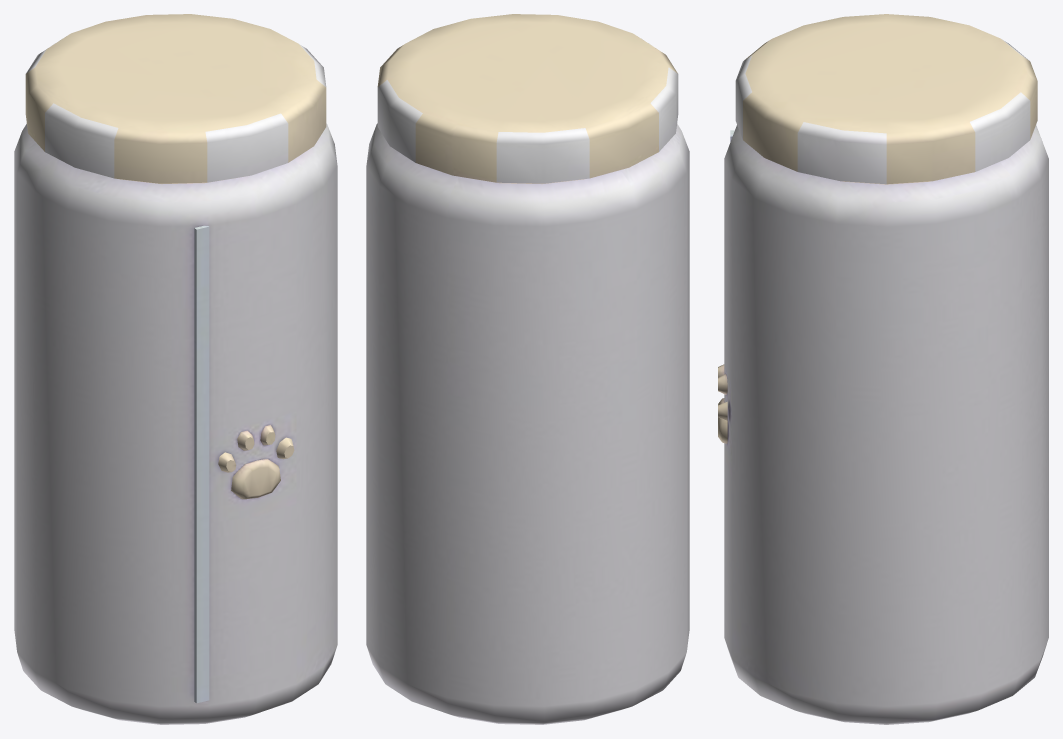
File: kavanoz2.glb
3 renders of one model, left to right at view 1: azimuth 30°, elevation 25°; view 2: azimuth 150°, elevation 25°; view 3: azimuth 270°, elevation 25°, orthographic.
Parts seen in each view (by area): view 1: kavanoz2; view 2: kavanoz2; view 3: kavanoz2.
Part boxes in pixels (x1,y1,x2,y2): kavanoz2: (14, 14, 337, 724); kavanoz2: (366, 14, 689, 724); kavanoz2: (718, 14, 1048, 724).
Bounding box in the file's own units: 1.53 × 3.1 × 1.56.
1 material, 1 textured.
